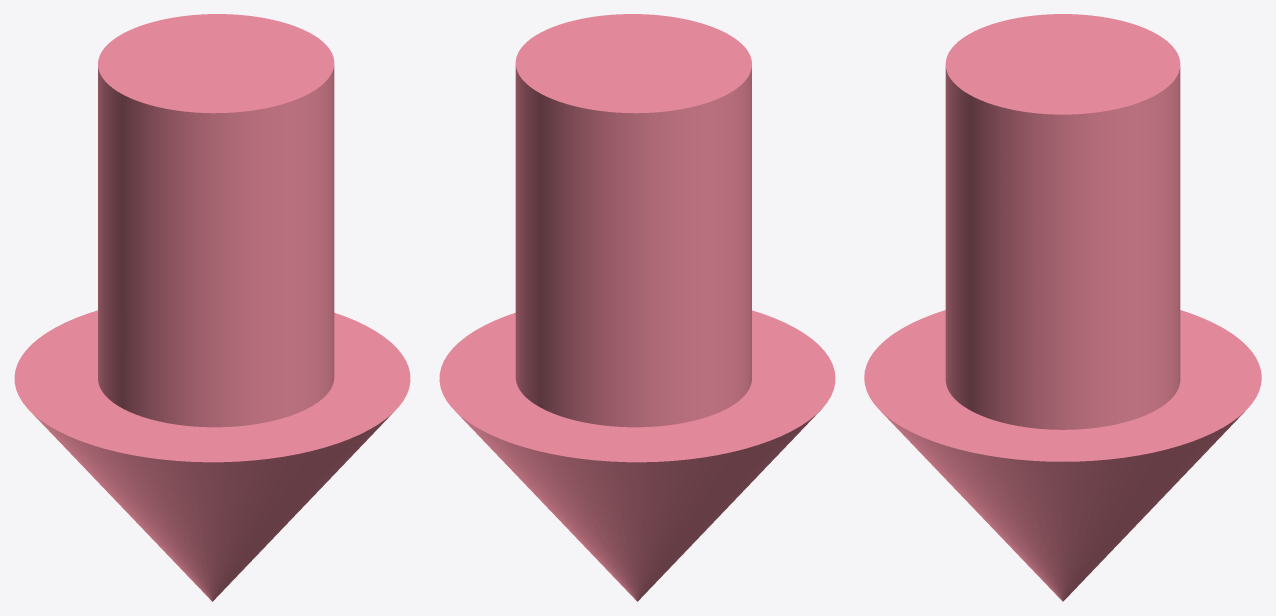
The picture shows the model from 3 angles, left to right: view 1: azimuth 30°, elevation 25°; view 2: azimuth 150°, elevation 25°; view 3: azimuth 270°, elevation 25°; orthographic projection.
Parts seen in each view (by area): view 1: root (×2); view 2: root (×2); view 3: root (×2).
Part boxes in pixels (left/top/right/bottom): root (×2): left=14, top=14, right=410, bottom=601; root (×2): left=439, top=14, right=835, bottom=601; root (×2): left=864, top=14, right=1261, bottom=601.
Bounding box in the file's own units: 0.1509 × 0.2259 × 0.1509.
